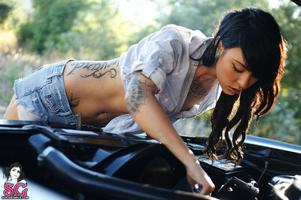person: (5, 7, 289, 199)
